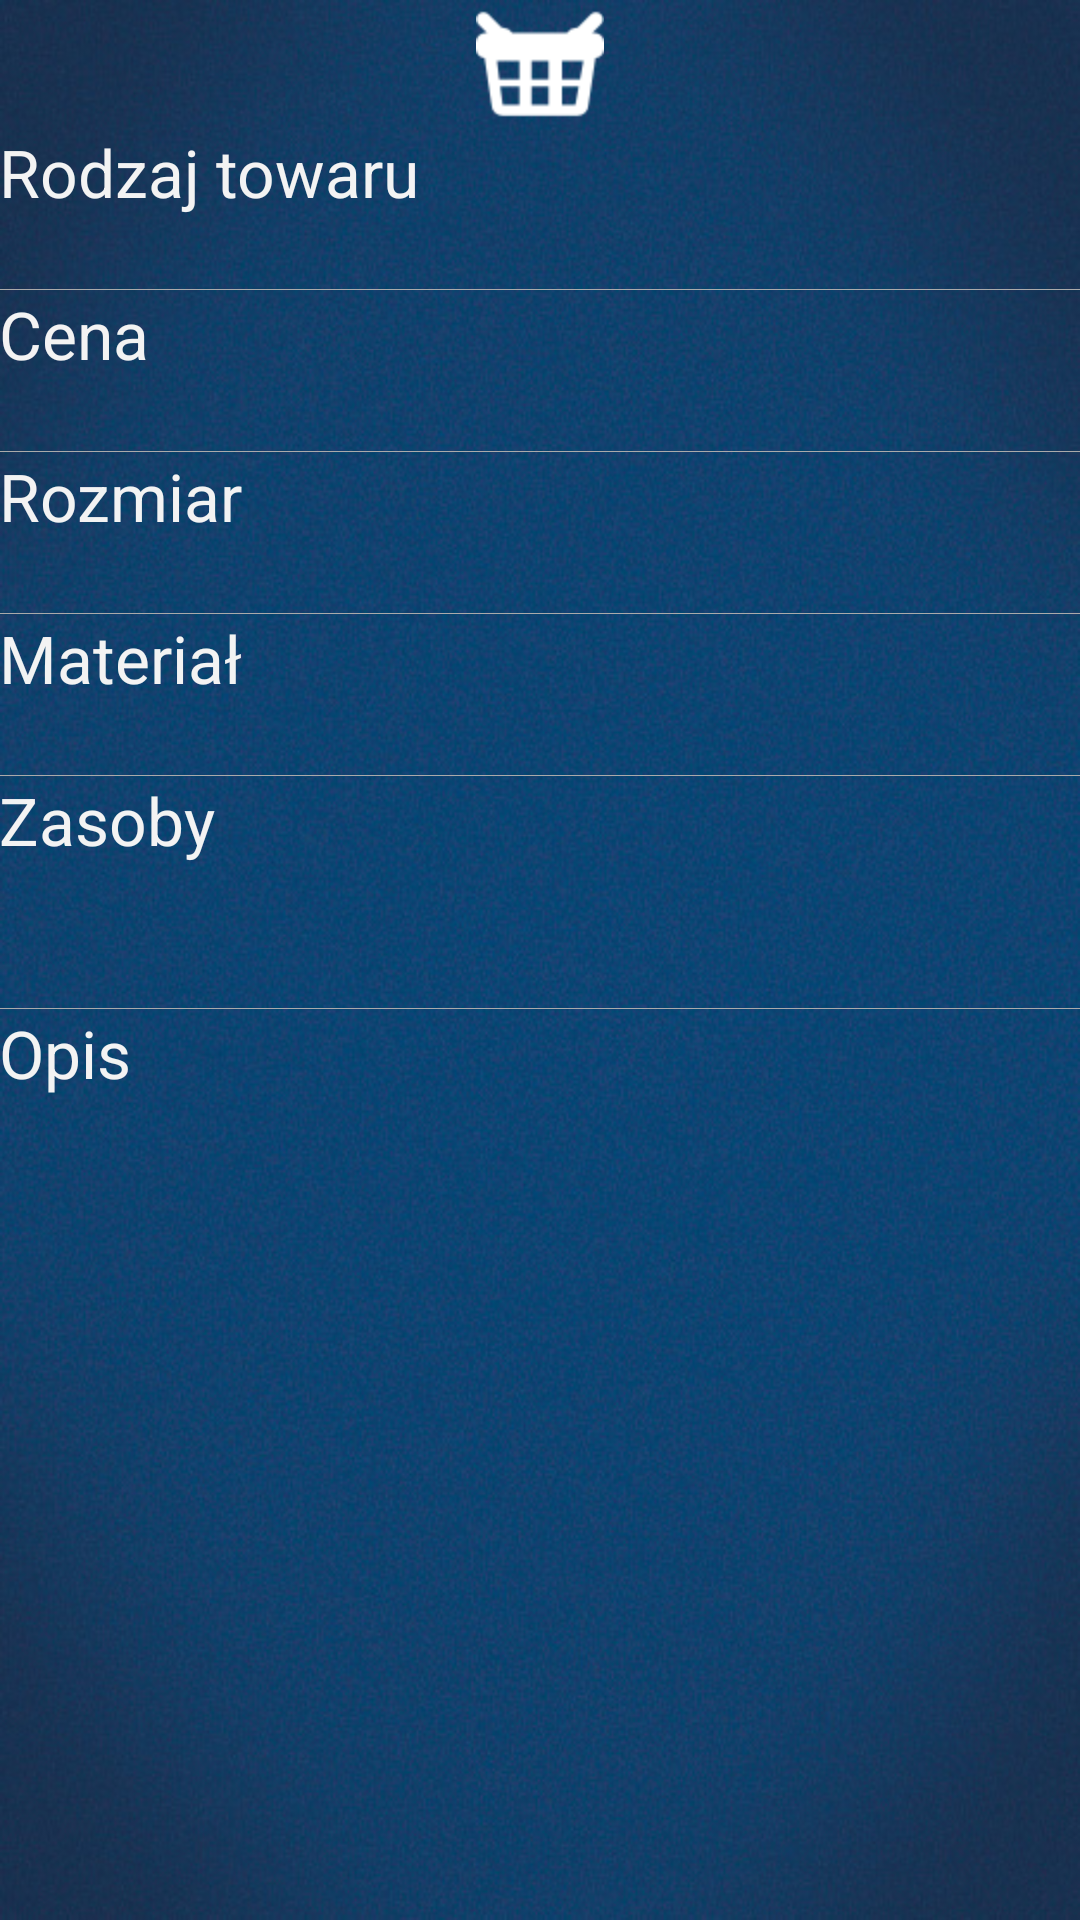

Icons on this 1080x1920 Android screen, each with its box as (x1, y1, x2, y2):
items: (476, 11, 604, 117)
